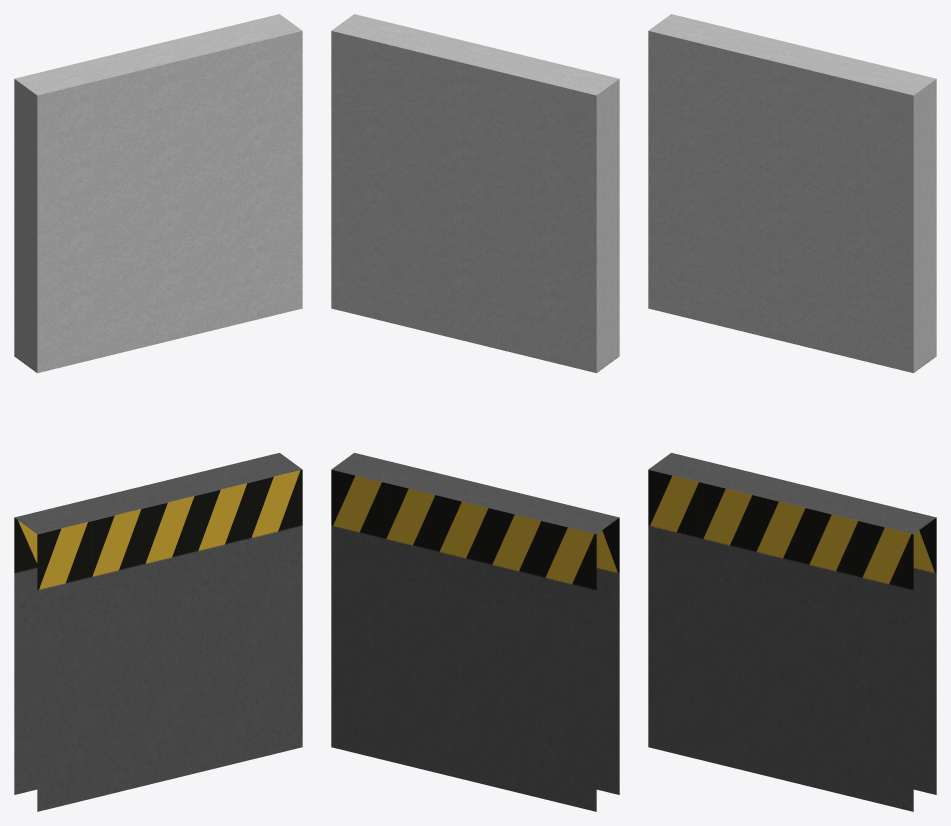
File: Wall2.FBX
3 renders of one model, left to right at view 1: azimuth 30°, elevation 25°; view 2: azimuth 150°, elevation 25°; view 3: azimuth 330°, elevation 25°, orthographic.
Parts seen in each view (by area): view 1: Wall_Up, Wall_Down; view 2: Wall_Up, Wall_Down; view 3: Wall_Up, Wall_Down.
Part boxes in pixels (x1,y1,x2,y2): Wall_Up: (14,14,302,372); Wall_Down: (14,453,302,811); Wall_Up: (331,14,619,372); Wall_Down: (331,453,619,811); Wall_Up: (648,14,936,372); Wall_Down: (648,453,936,811).
Size of the model in its own units: 1000 by 2580 by 150.
Materials: 1 (1 with a texture image).
